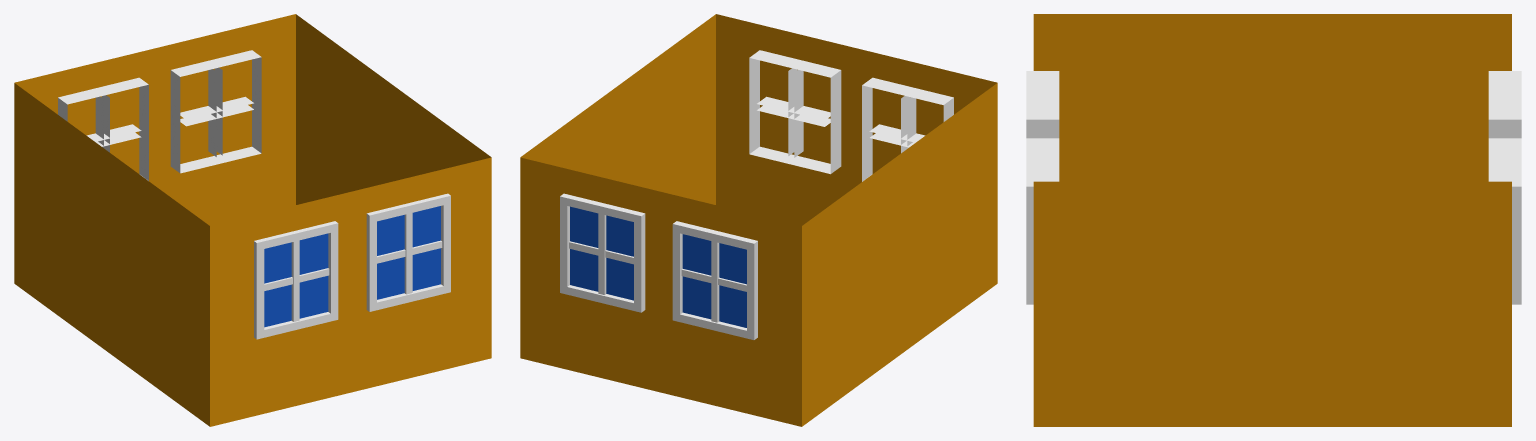
Rendered from CityBuildingA_01_flooor.fbx.
The picture shows the model from 3 angles, left to right: view 1: azimuth 30°, elevation 25°; view 2: azimuth 150°, elevation 25°; view 3: azimuth 270°, elevation 25°; orthographic projection. The views are drawn at different scales.
Visible parts, largest first — view 1: CityBuildingA_01_flooor; view 2: CityBuildingA_01_flooor; view 3: CityBuildingA_01_flooor.
Part boxes in pixels (bbox=[...]): CityBuildingA_01_flooor: bbox=[14, 14, 491, 426]; CityBuildingA_01_flooor: bbox=[520, 14, 997, 426]; CityBuildingA_01_flooor: bbox=[1026, 14, 1521, 426].
Bounding box in the file's own units: 0.4513 × 0.3075 × 0.563.
